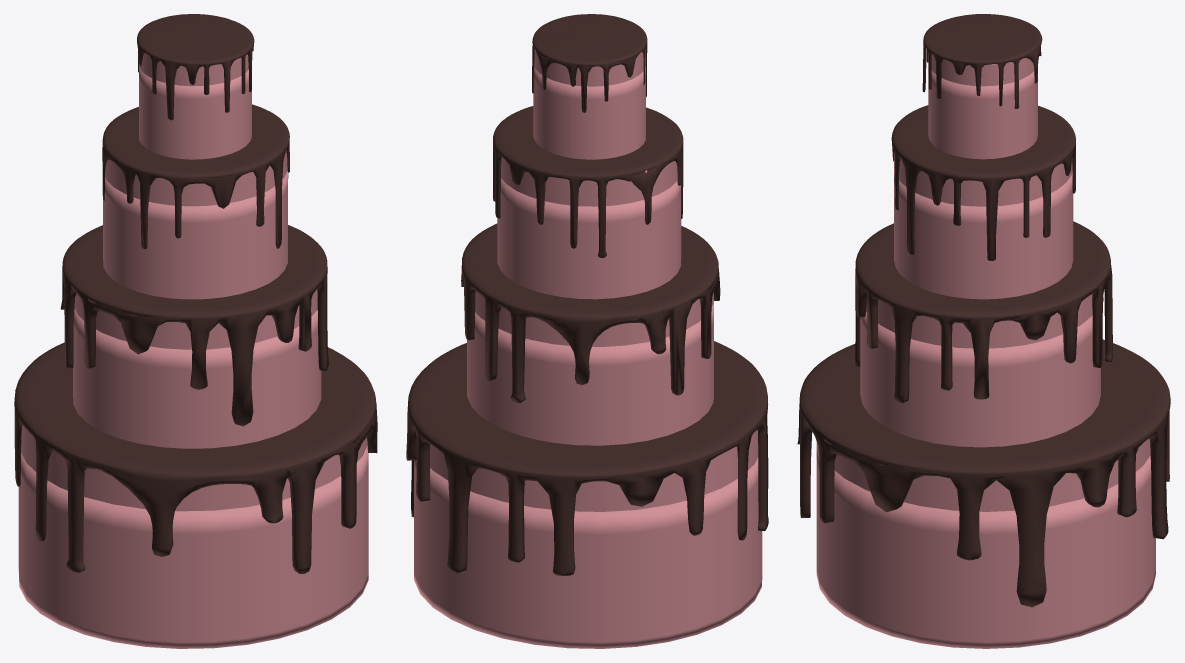
The model's file is 4-tier-blush-ganache-none.glb.
3 renders of one model, left to right at view 1: azimuth 30°, elevation 25°; view 2: azimuth 150°, elevation 25°; view 3: azimuth 270°, elevation 25°, orthographic.
Parts seen in each view (by area): view 1: 3.001, tHE ICING.008, 3, 2, tHE ICING.007, tHE ICING.006, 1, tHE ICING.009; view 2: 3.001, tHE ICING.008, 3, 2, tHE ICING.007, tHE ICING.006, 1, tHE ICING.009; view 3: 3.001, tHE ICING.008, 3, 2, tHE ICING.007, tHE ICING.006, 1, tHE ICING.009.
Part boxes in pixels (x1=…): 3.001: x1=18, y1=425, x2=368, y2=648; tHE ICING.008: x1=14, y1=342, x2=377, y2=573; 3: x1=73, y1=289, x2=321, y2=448; 2: x1=103, y1=145, x2=287, y2=299; tHE ICING.007: x1=60, y1=225, x2=328, y2=426; tHE ICING.006: x1=102, y1=104, x2=289, y2=249; 1: x1=139, y1=53, x2=251, y2=159; tHE ICING.009: x1=137, y1=14, x2=254, y2=120; 3.001: x1=414, y1=430, x2=762, y2=648; tHE ICING.008: x1=406, y1=341, x2=768, y2=575; 3: x1=467, y1=291, x2=713, y2=445; 2: x1=497, y1=157, x2=681, y2=299; tHE ICING.007: x1=461, y1=223, x2=720, y2=402; tHE ICING.006: x1=493, y1=106, x2=683, y2=257; 1: x1=533, y1=49, x2=645, y2=159; tHE ICING.009: x1=532, y1=14, x2=647, y2=112; 3.001: x1=816, y1=438, x2=1155, y2=648; tHE ICING.008: x1=797, y1=339, x2=1170, y2=607; 3: x1=860, y1=294, x2=1100, y2=447; 2: x1=894, y1=152, x2=1073, y2=299; tHE ICING.007: x1=855, y1=221, x2=1113, y2=403; tHE ICING.006: x1=891, y1=105, x2=1075, y2=260; 1: x1=928, y1=54, x2=1037, y2=159; tHE ICING.009: x1=922, y1=14, x2=1042, y2=108.
Size of the model in its own units: 4.52 by 7.45 by 4.69.
